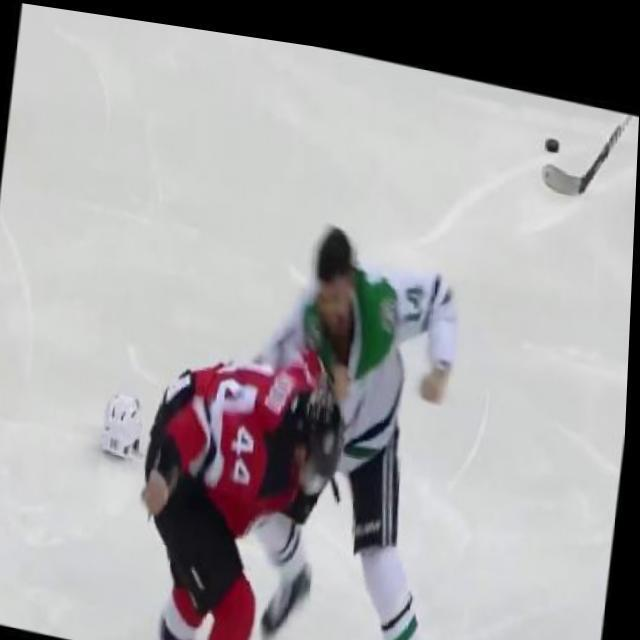fight: (130, 182, 483, 640)
